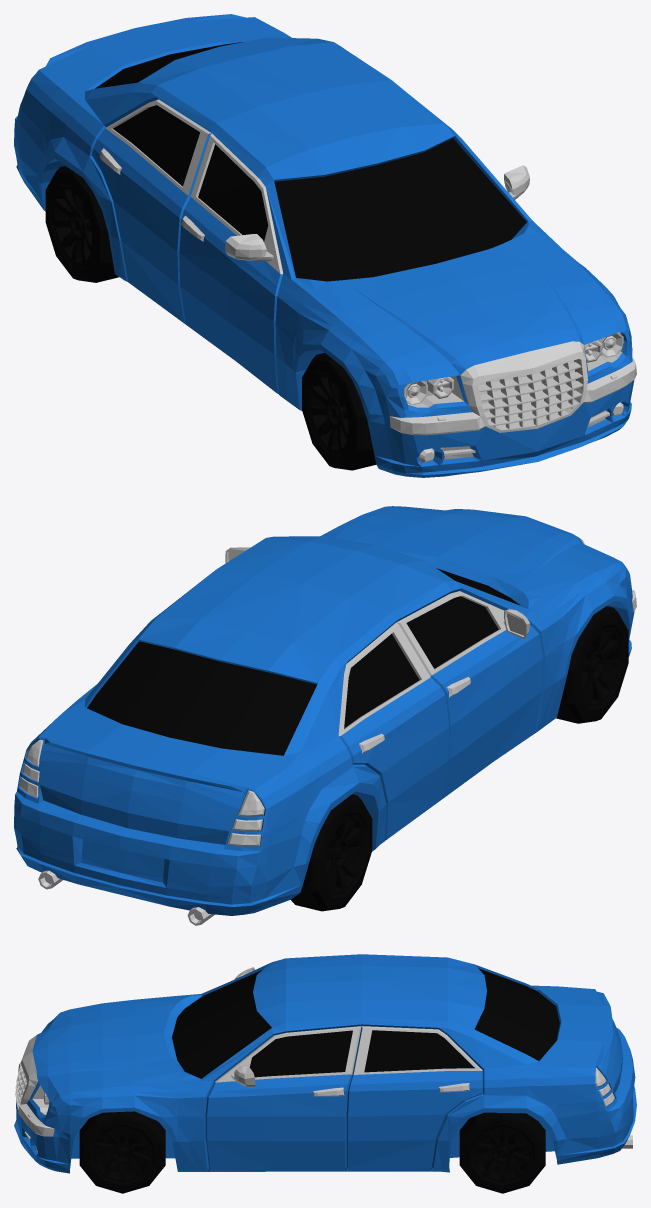
The model's file is SM_luxury_car.fbx.
3 views of the same model, one above another, from view 1: azimuth 30°, elevation 25°; view 2: azimuth 150°, elevation 25°; view 3: azimuth 270°, elevation 25° (orthographic). The views are drawn at different scales.
Visible parts, largest first — view 1: Symmetry_4, Cylinder_3, Cylinder_4; view 2: Symmetry_4, Cylinder_4, Cylinder_3; view 3: Symmetry_4, Cylinder, Cylinder_4.
Boxes of the visible parts, box(x1,y1,x2,y2) form: Symmetry_4: box(14, 14, 636, 477); Cylinder_3: box(302, 353, 376, 470); Cylinder_4: box(45, 166, 119, 282); Symmetry_4: box(14, 506, 636, 925); Cylinder_4: box(291, 794, 372, 911); Cylinder_3: box(556, 606, 628, 723); Symmetry_4: box(14, 954, 636, 1173); Cylinder: box(79, 1111, 165, 1193); Cylinder_4: box(459, 1112, 545, 1193).
Bounding box in the file's own units: 198 × 141 × 478.
